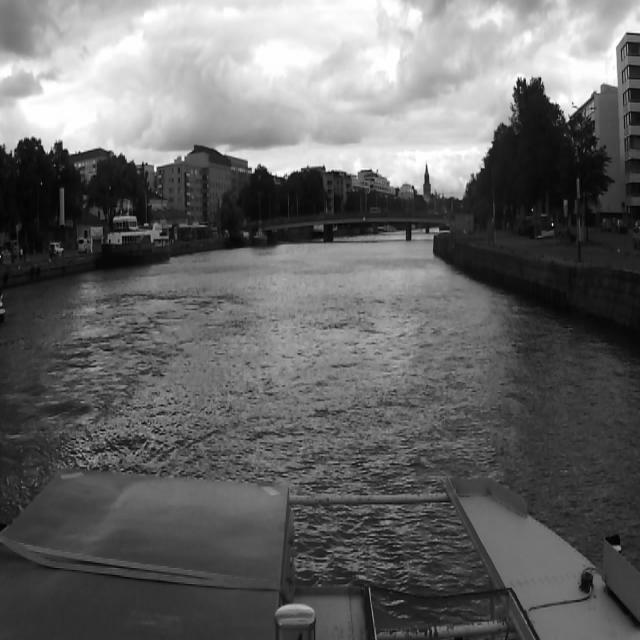ship: (95, 205, 173, 271)
